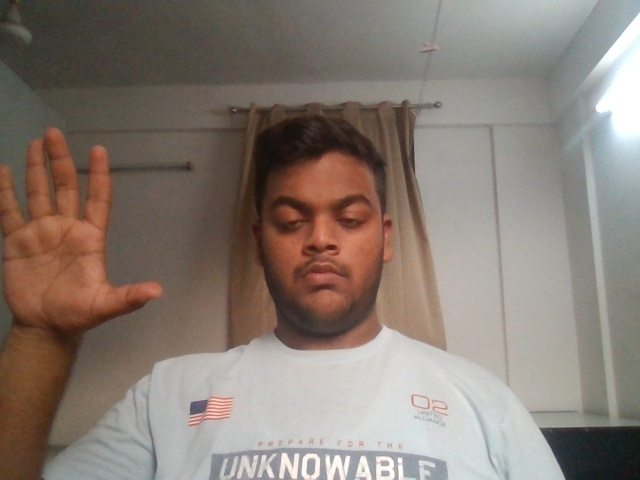Hello: (1, 97, 175, 349)
